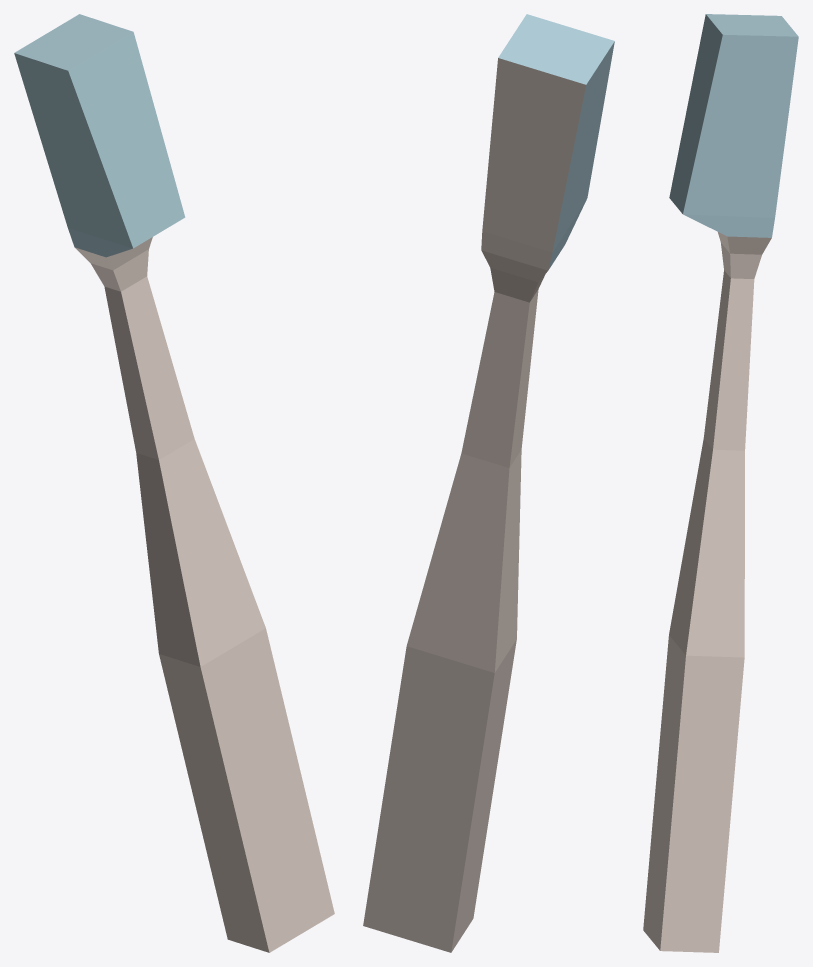
The model's file is Bathroom_Toothbrush.fbx.
The picture shows the model from 3 angles, left to right: view 1: azimuth 30°, elevation 25°; view 2: azimuth 150°, elevation 25°; view 3: azimuth 270°, elevation 25°; orthographic projection. The views are drawn at different scales.
Parts seen in each view (by area): view 1: Bathroom_Toothbrush; view 2: Bathroom_Toothbrush; view 3: Bathroom_Toothbrush.
Boxes of the visible parts, bbox=[...] form: Bathroom_Toothbrush: bbox=[14, 14, 334, 952]; Bathroom_Toothbrush: bbox=[363, 14, 614, 952]; Bathroom_Toothbrush: bbox=[643, 14, 798, 952].
Size of the model in its own units: 10.62 by 36.48 by 5.99.
